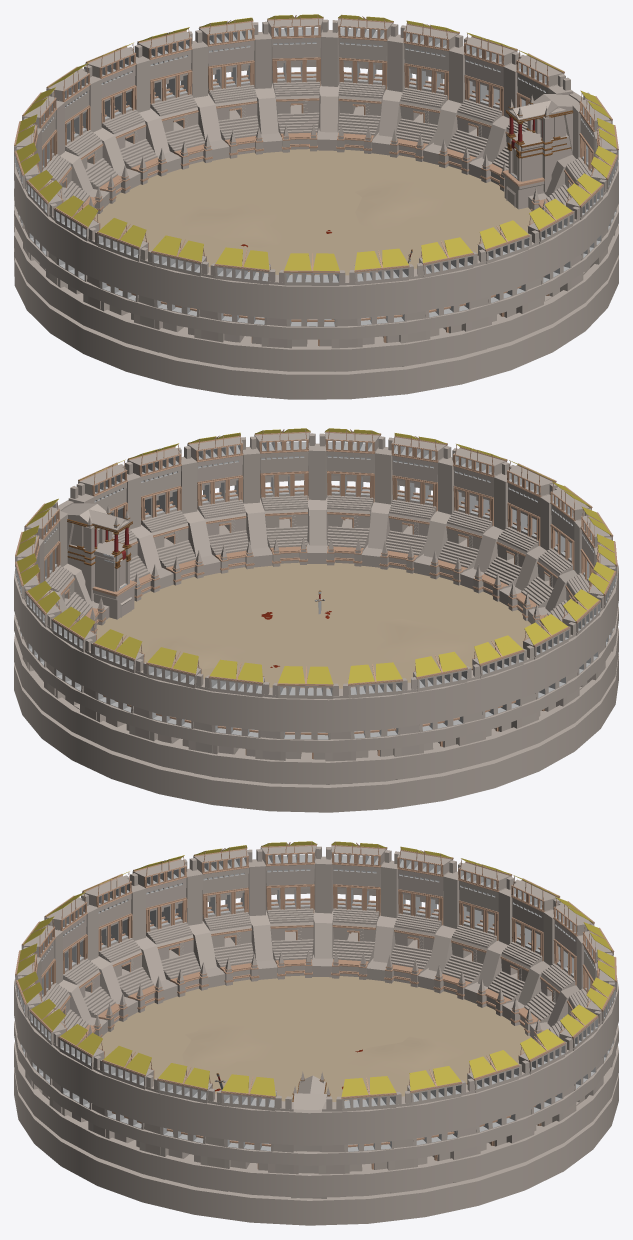
File: arena model.fbx
3 views of the same model, one above another, from view 1: azimuth 30°, elevation 25°; view 2: azimuth 150°, elevation 25°; view 3: azimuth 270°, elevation 25° (orthographic).
Visible parts, largest first — view 1: pCylinder1, pCylinder12, pCylinder13, pCylinder16, pCylinder14, pCylinder15, pCube267, polySurface50, polySurface51, polySurface49, polySurface52, polySurface48 (+39 smaller); view 2: pCylinder1, pCylinder12, pCylinder13, pCylinder16, pCylinder14, pCylinder15, pCube267, polySurface33, polySurface32, polySurface34, polySurface31, polySurface30 (+40 smaller); view 3: pCylinder1, pCylinder12, pCylinder13, pCylinder16, pCylinder14, pCylinder15, polySurface41, polySurface42, polySurface40, polySurface43, polySurface39, polySurface44 (+40 smaller).
Part boxes in pixels (<box>): pCylinder1: <box>95,149,533,275</box>; pCylinder12: <box>14,236,618,399</box>; pCylinder13: <box>14,210,618,370</box>; pCylinder16: <box>14,91,618,307</box>; pCylinder14: <box>14,77,618,339</box>; pCylinder15: <box>14,62,618,319</box>; pCube267: <box>502,94,579,209</box>; polySurface50: <box>267,14,323,149</box>; polySurface51: <box>338,14,393,150</box>; polySurface49: <box>198,17,258,154</box>; polySurface52: <box>396,20,459,158</box>; polySurface48: <box>137,27,204,164</box>; pCylinder1: <box>96,562,531,687</box>; pCylinder12: <box>14,654,618,812</box>; pCylinder13: <box>14,627,618,784</box>; pCylinder16: <box>14,500,618,720</box>; pCylinder14: <box>14,492,618,752</box>; pCylinder15: <box>14,475,618,732</box>; pCube267: <box>61,503,136,619</box>; polySurface33: <box>324,428,381,563</box>; polySurface32: <box>254,428,310,563</box>; polySurface34: <box>386,433,447,569</box>; polySurface31: <box>187,432,248,569</box>; polySurface30: <box>127,443,196,579</box>; pCylinder1: <box>98,975,530,1101</box>; pCylinder12: <box>14,1069,618,1225</box>; pCylinder13: <box>14,1042,618,1197</box>; pCylinder16: <box>14,978,618,1134</box>; pCylinder14: <box>14,909,618,1165</box>; pCylinder15: <box>14,888,618,1145</box>; polySurface41: <box>260,841,317,976</box>; polySurface42: <box>331,841,387,976</box>; polySurface40: <box>193,845,253,981</box>; polySurface43: <box>391,846,453,983</box>; polySurface39: <box>132,855,200,991</box>; polySurface44: <box>442,858,512,994</box>.
Bounding box in the file's own units: 5938 × 1488 × 5938.
